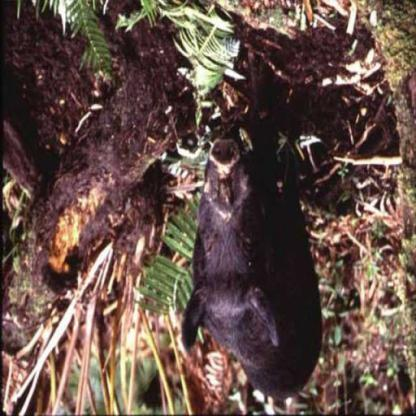boar: (157, 60, 342, 411)
